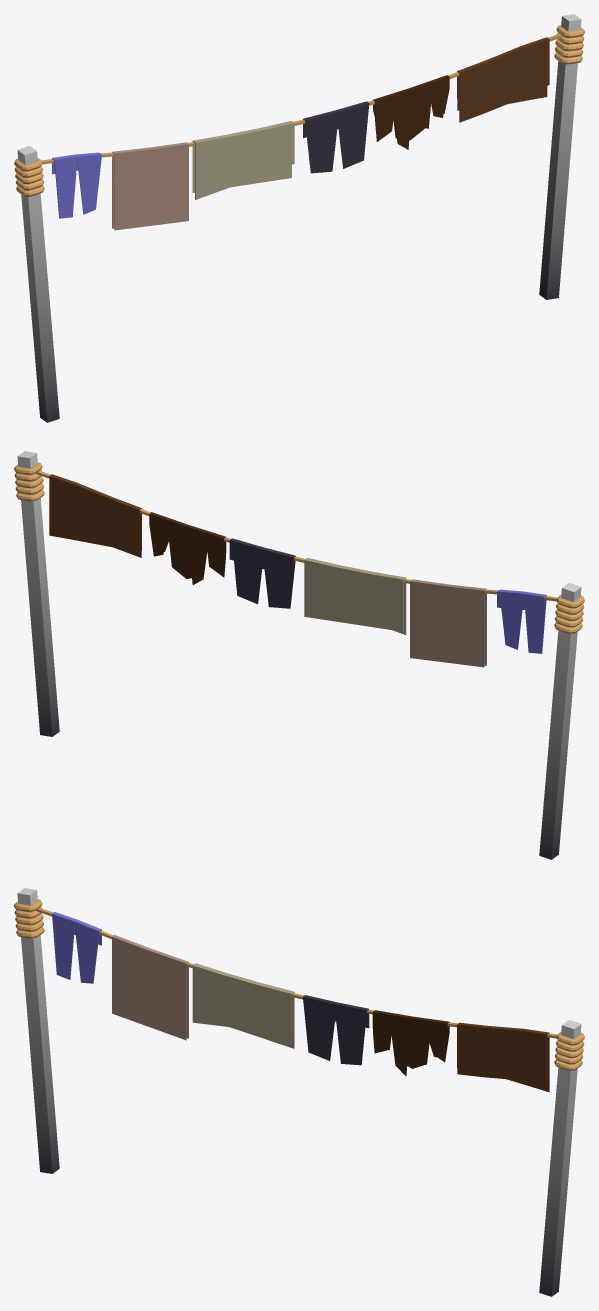
The model's file is Clothes.fbx.
The picture shows the model from 3 angles, top to bottom: view 1: azimuth 30°, elevation 25°; view 2: azimuth 150°, elevation 25°; view 3: azimuth 330°, elevation 25°; orthographic projection.
Visible parts, largest first — view 1: Clothes; view 2: Clothes; view 3: Clothes.
Part boxes in pixels (bbox=[...]): Clothes: bbox=[14, 14, 584, 422]; Clothes: bbox=[14, 451, 584, 859]; Clothes: bbox=[14, 888, 584, 1296].
Size of the model in its own units: 452 by 210 by 17.61.
